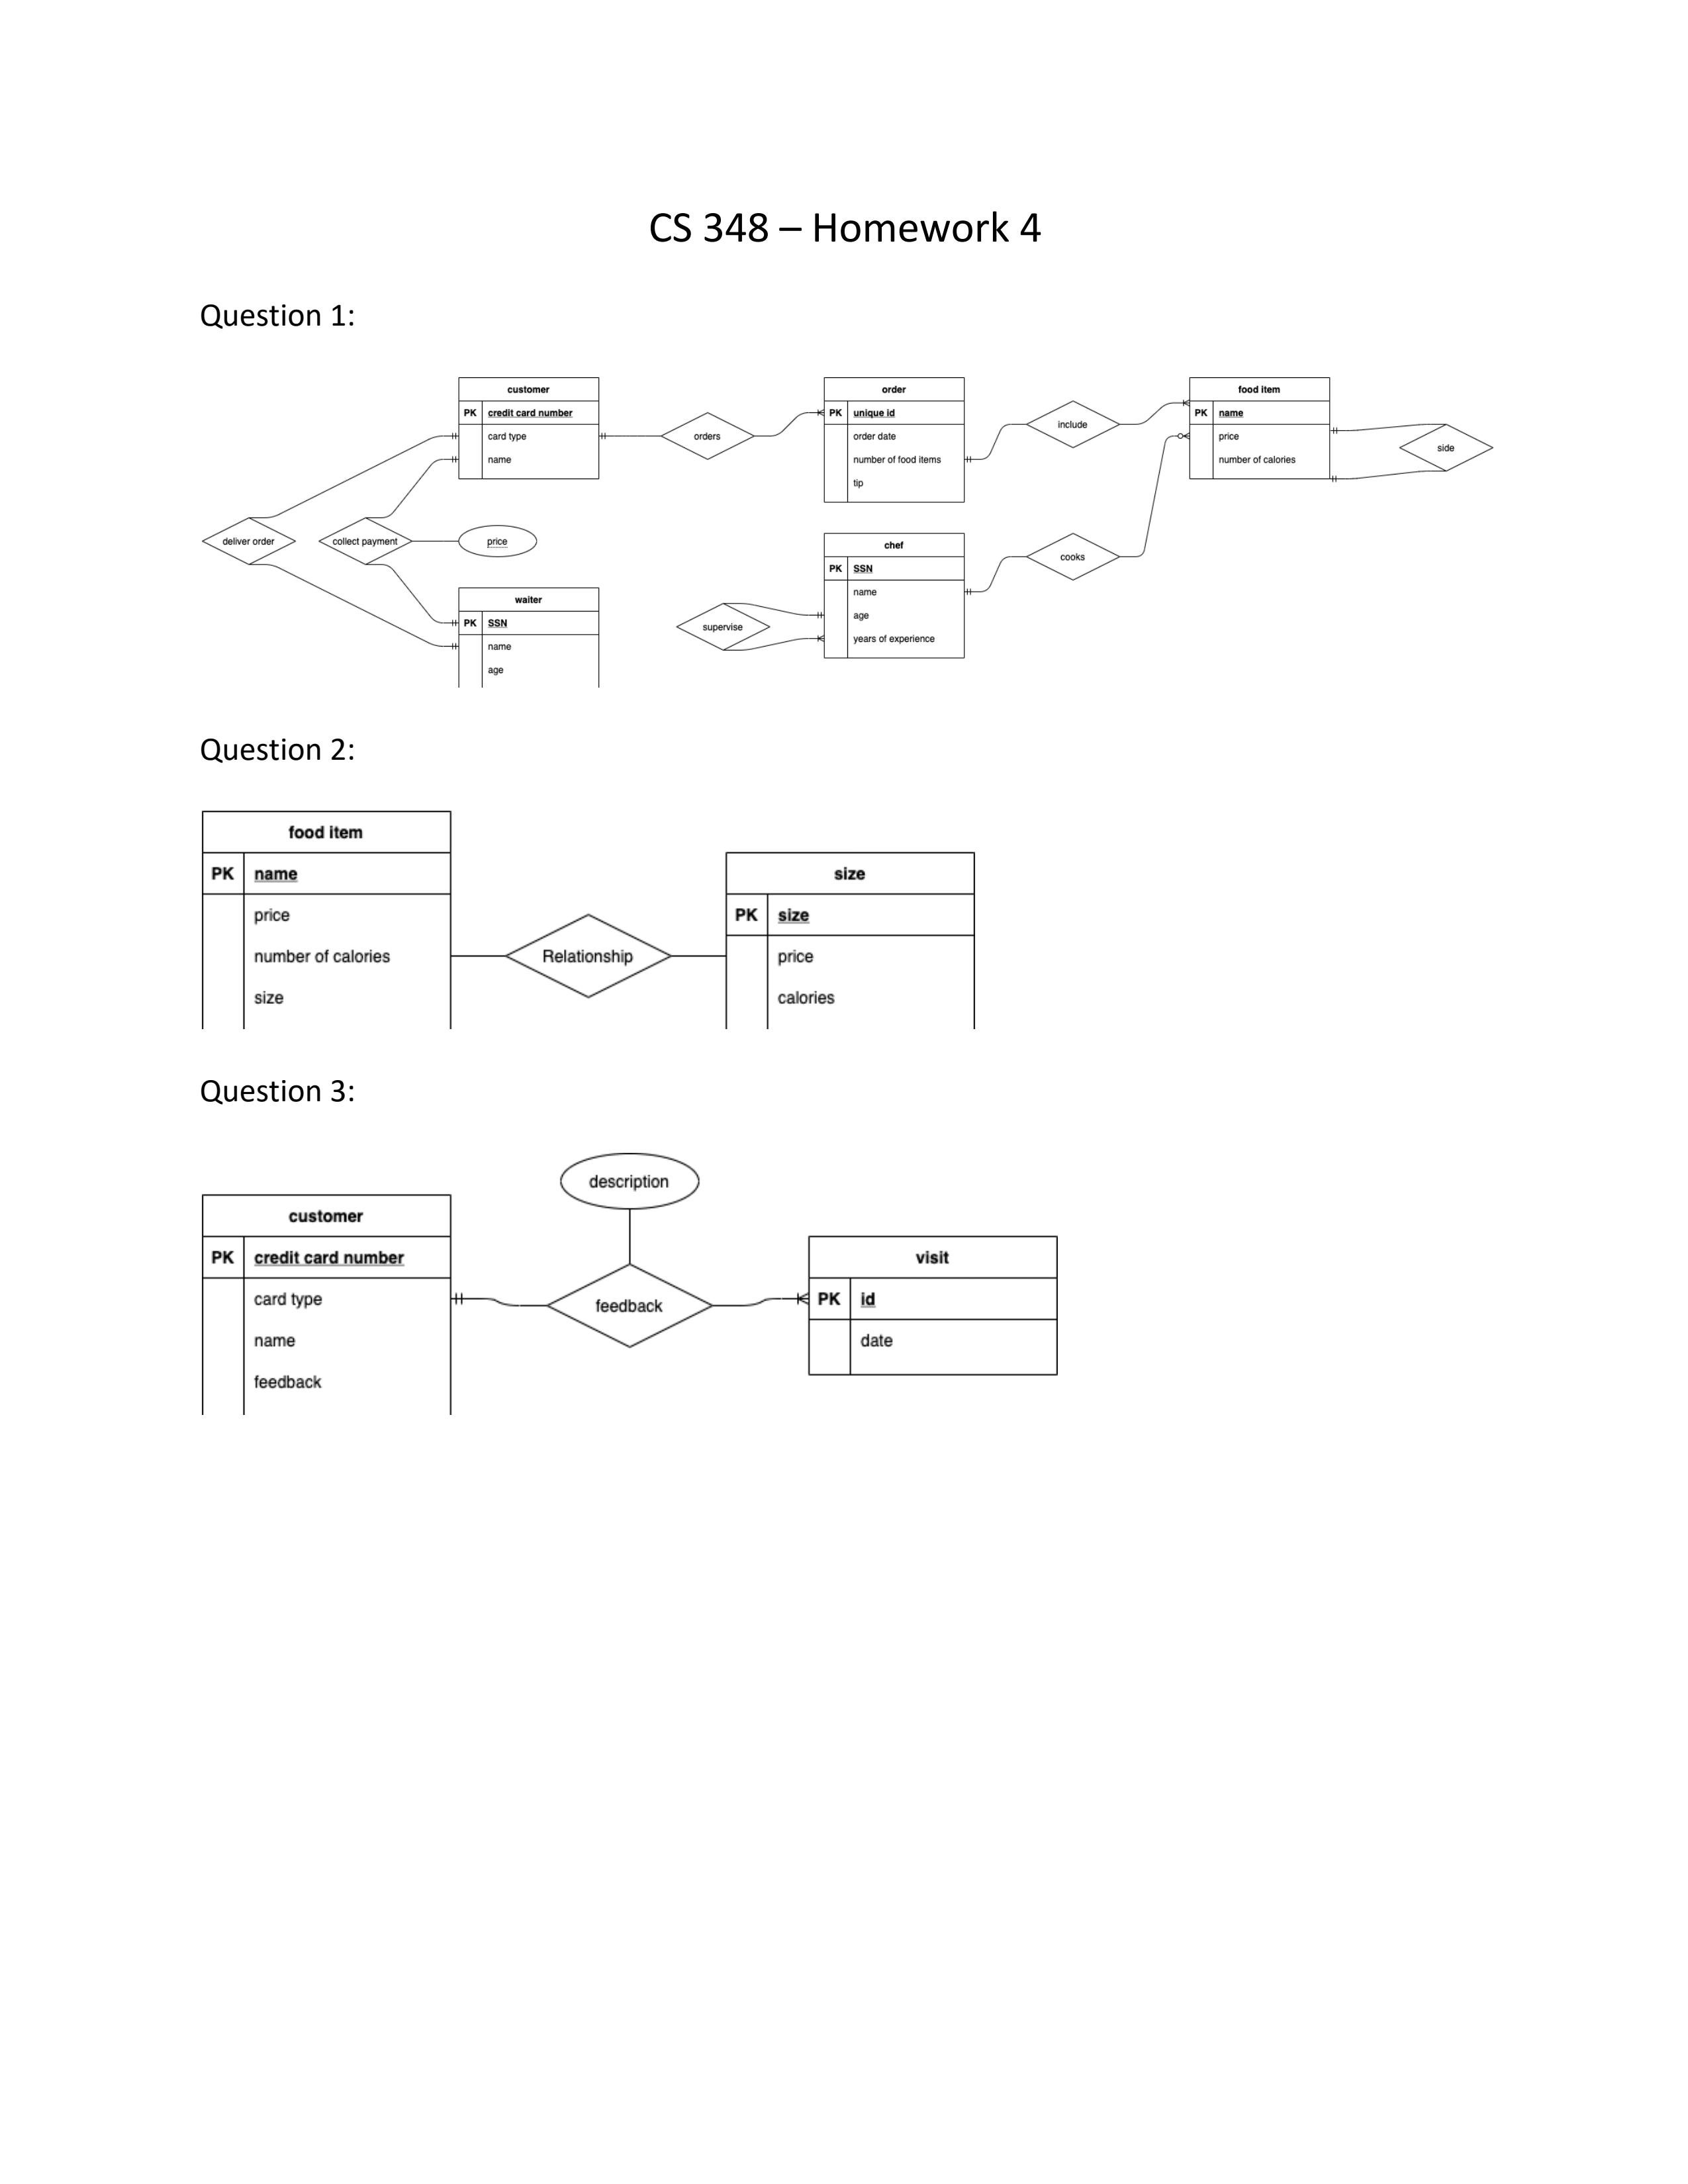Attribute: (559, 1152, 700, 1209), (457, 525, 537, 557)
Entity: (200, 1193, 452, 1416), (200, 810, 452, 1030), (725, 851, 977, 1030), (807, 1236, 1060, 1377), (823, 532, 966, 659), (823, 376, 966, 503), (457, 376, 601, 480), (1188, 376, 1332, 480), (457, 587, 601, 690)
Relationship: (546, 1264, 713, 1347), (505, 915, 670, 998), (319, 516, 413, 565), (660, 411, 754, 459), (200, 518, 296, 564), (676, 603, 770, 649), (1025, 534, 1119, 580), (1401, 424, 1495, 470), (1027, 401, 1119, 447)
